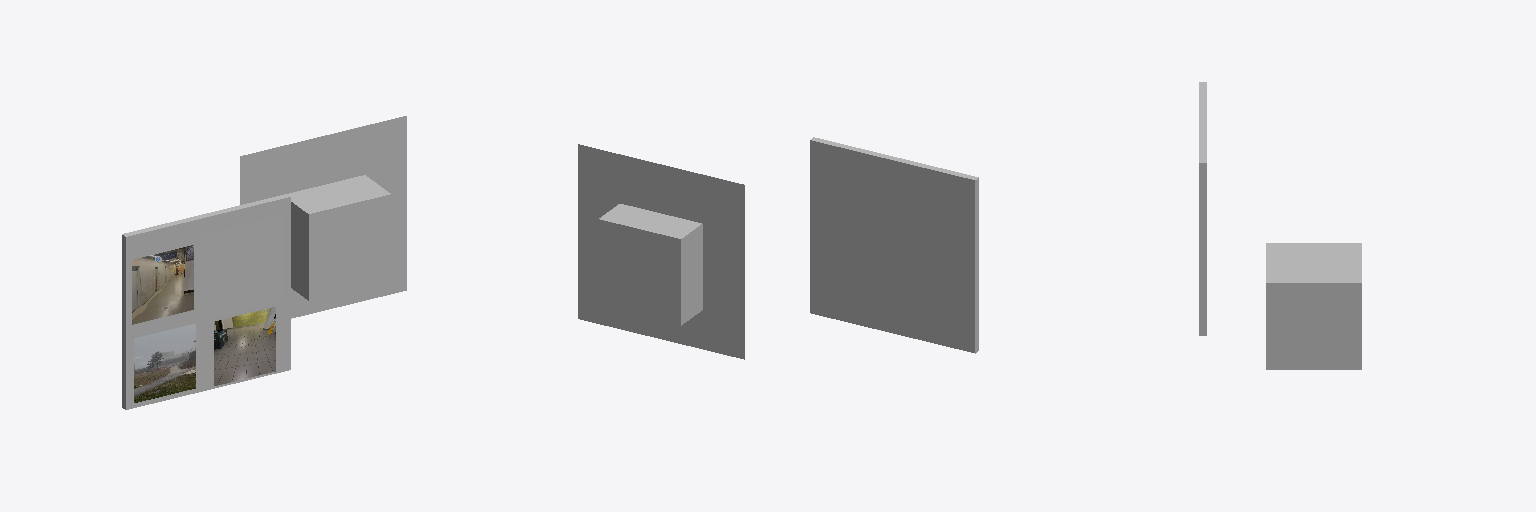
3 views of the same model, side by side, from view 1: azimuth 30°, elevation 25°; view 2: azimuth 150°, elevation 25°; view 3: azimuth 270°, elevation 25° (orthographic).
Parts seen in each view (by area): view 1: Plane.001, Cube.001_Cube.002, Cube, Plane, Plane.002, Plane.003, Plane.004; view 2: Cube, Plane.001, Cube.001_Cube.002; view 3: Cube.001_Cube.002, Cube.
Part boxes in pixels (bbox=[...]): Plane.001: bbox=[240, 116, 406, 318]; Cube.001_Cube.002: bbox=[288, 175, 390, 300]; Cube: bbox=[122, 194, 290, 409]; Plane: bbox=[200, 215, 282, 321]; Plane.002: bbox=[132, 245, 193, 324]; Plane.003: bbox=[134, 324, 195, 402]; Plane.004: bbox=[214, 307, 275, 385]; Cube: bbox=[810, 137, 978, 353]; Plane.001: bbox=[578, 144, 744, 359]; Cube.001_Cube.002: bbox=[598, 204, 702, 325]; Cube.001_Cube.002: bbox=[1266, 243, 1361, 369]; Cube: bbox=[1199, 82, 1206, 335].
Bounding box in the file's own units: 8.26 × 4.17 × 3.43.
Materials: 6 (3 with a texture image).